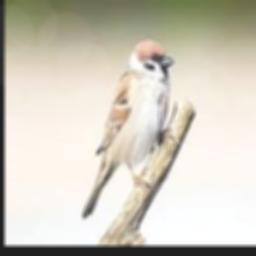Sparrow: (83, 38, 173, 218)
